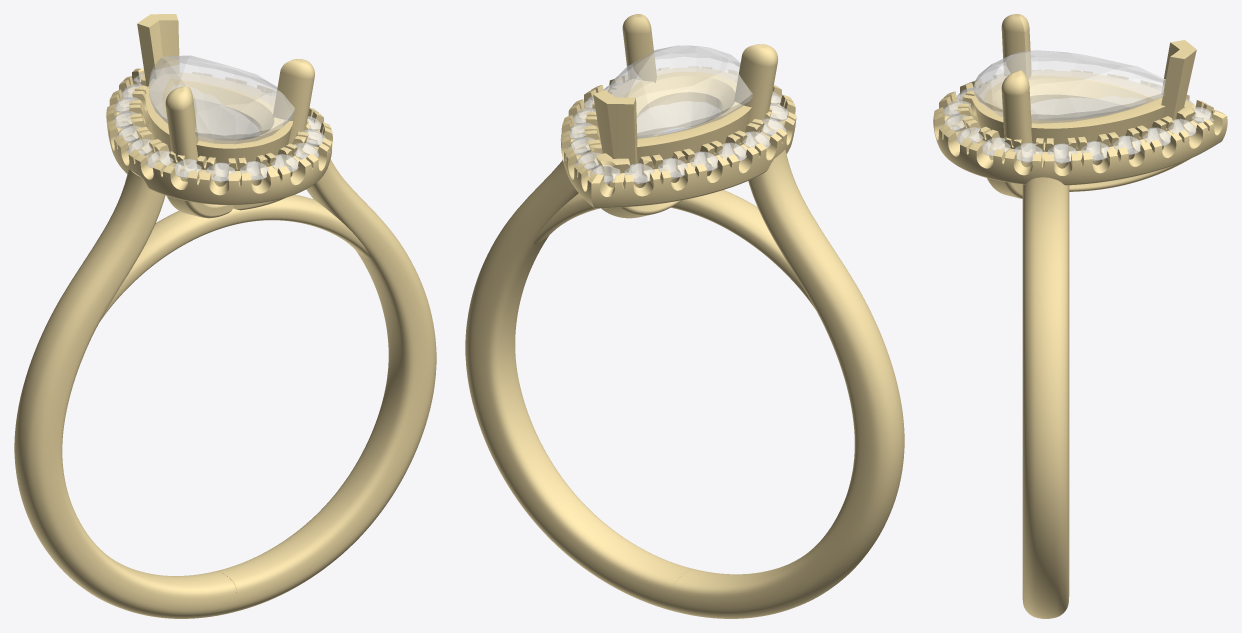
3 renders of one model, left to right at view 1: azimuth 30°, elevation 25°; view 2: azimuth 150°, elevation 25°; view 3: azimuth 270°, elevation 25°, orthographic. The views are drawn at different scales.
Parts seen in each view (by area): view 1: NNObj_27, NNObj_26, NNObj_21, NNObj_19, Bezel, NNObj_22, Head Prong (×2), NNObj_23, NNObj_24; view 2: NNObj_27, NNObj_26, NNObj_21, NNObj_19, Bezel, Head Prong (×2), NNObj_22, NNObj_23, NNObj_20; view 3: NNObj_26, NNObj_21, NNObj_19, Bezel, Head Prong (×2), NNObj_23, NNObj_20, NNObj_25, NNObj_12.
Boxes of the visible parts, bbox=[...] form: NNObj_27: bbox=[14, 169, 236, 618]; NNObj_26: bbox=[217, 159, 436, 612]; NNObj_21: bbox=[106, 68, 332, 204]; NNObj_19: bbox=[149, 55, 294, 144]; Bezel: bbox=[145, 72, 292, 169]; NNObj_22: bbox=[100, 194, 370, 320]; Head Prong (×2): bbox=[165, 59, 314, 168]; NNObj_23: bbox=[137, 14, 179, 86]; NNObj_24: bbox=[166, 181, 233, 218]; NNObj_27: bbox=[673, 149, 904, 618]; NNObj_26: bbox=[465, 160, 692, 611]; NNObj_21: bbox=[560, 66, 796, 208]; NNObj_19: bbox=[607, 45, 752, 138]; Bezel: bbox=[612, 68, 751, 164]; Head Prong (×2): bbox=[622, 14, 778, 124]; NNObj_22: bbox=[533, 190, 814, 308]; NNObj_23: bbox=[593, 90, 637, 173]; NNObj_20: bbox=[601, 200, 682, 218]; NNObj_26: bbox=[1022, 177, 1069, 618]; NNObj_21: bbox=[933, 70, 1227, 185]; NNObj_19: bbox=[973, 50, 1165, 123]; Bezel: bbox=[973, 71, 1165, 149]; Head Prong (×2): bbox=[1001, 14, 1032, 151]; NNObj_23: bbox=[1161, 40, 1196, 124]; NNObj_20: bbox=[1069, 158, 1190, 191]; NNObj_25: bbox=[987, 160, 1022, 198]; NNObj_12: bbox=[1047, 143, 1076, 163].
Size of the model in its own units: 0.0212 by 0.0267 by 0.0129.
